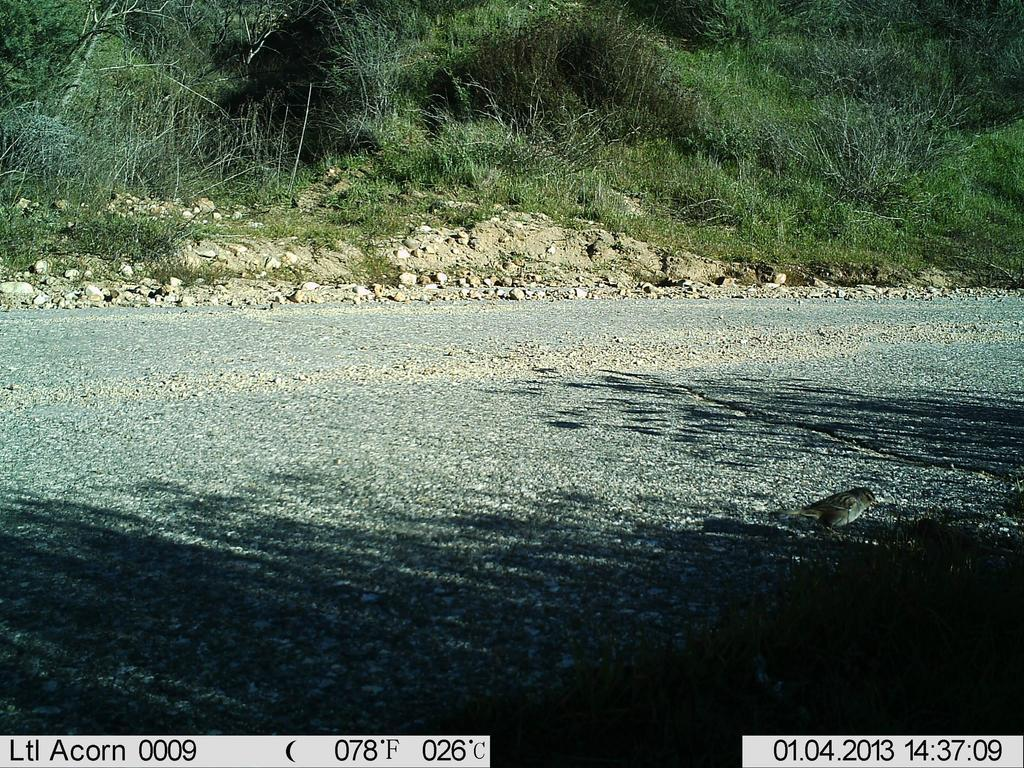bird: (767, 478, 890, 551)
